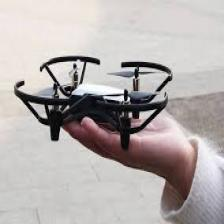drone: (13, 53, 173, 150)
